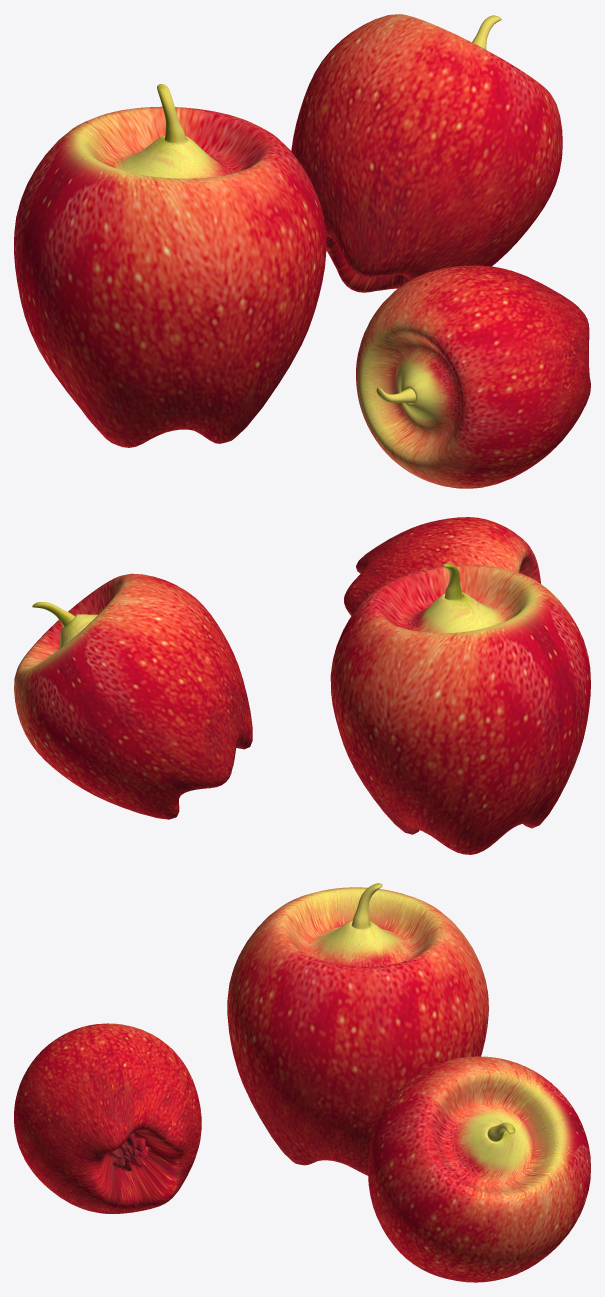
The model's file is apel.fbx.
The picture shows the model from 3 angles, top to bottom: view 1: azimuth 30°, elevation 25°; view 2: azimuth 150°, elevation 25°; view 3: azimuth 270°, elevation 25°; orthographic projection. The views are drawn at different scales.
Parts seen in each view (by area): view 1: Sphere.003, Sphere.000, Sphere.002; view 2: Sphere.003, Sphere.000, Sphere.002; view 3: Sphere.003, Sphere.000, Sphere.002.
Boxes of the visible parts, left/top/right/bottom form: Sphere.003: left=14, top=84, right=326, bottom=447; Sphere.000: left=291, top=14, right=562, bottom=292; Sphere.002: left=356, top=265, right=590, bottom=488; Sphere.003: left=330, top=563, right=590, bottom=854; Sphere.000: left=14, top=573, right=252, bottom=819; Sphere.002: left=344, top=517, right=540, bottom=615; Sphere.003: left=227, top=883, right=488, bottom=1175; Sphere.000: left=368, top=1056, right=590, bottom=1282; Sphere.002: left=14, top=1023, right=201, bottom=1213.
Bounding box in the file's own units: 641 × 348 × 657.
1 material, 1 textured.
